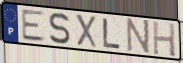E: (21, 9, 47, 43)
H: (152, 20, 177, 58)
L: (101, 17, 122, 50)
N: (126, 17, 151, 56)
S: (48, 12, 71, 46)
X: (74, 13, 98, 50)
